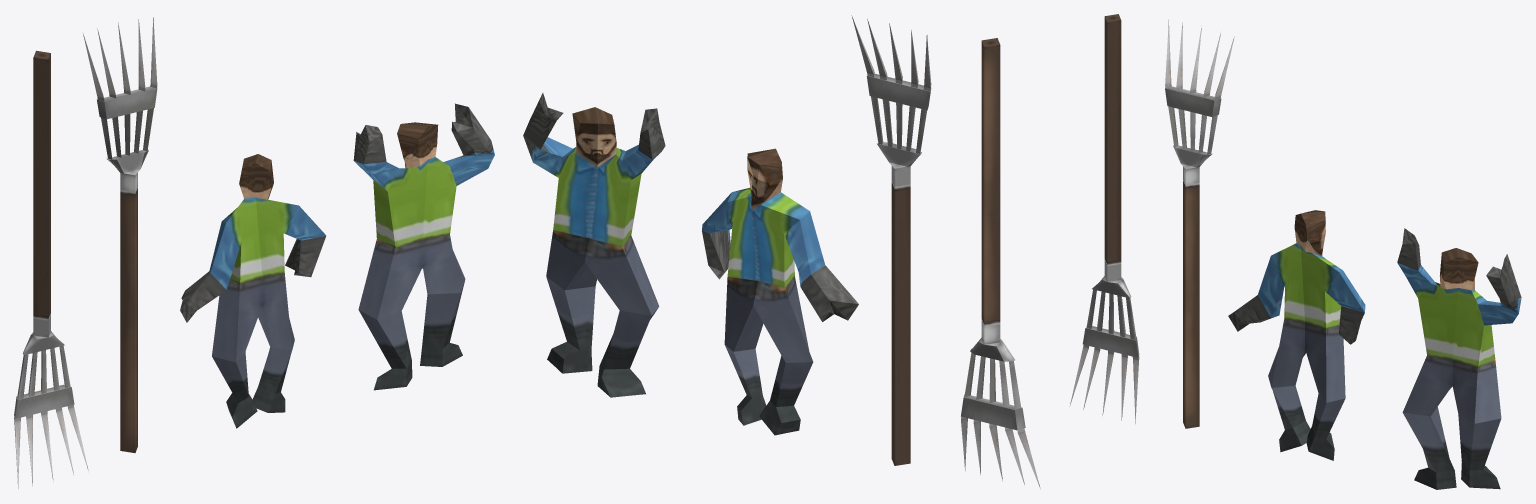
Rendered from GarbageEnemyJanitorRake_4items.fbx.
3 renders of one model, left to right at view 1: azimuth 30°, elevation 25°; view 2: azimuth 150°, elevation 25°; view 3: azimuth 330°, elevation 25°, orthographic. The views are drawn at different scales.
Parts seen in each view (by area): view 1: JanitorRake1, JanitorRake2, Rake1, Rake2; view 2: JanitorRake1, JanitorRake2, Rake1, Rake2; view 3: JanitorRake1, JanitorRake2, Rake2, Rake1.
Part boxes in pixels (x1=…): JanitorRake1: x1=353, y1=103, x2=494, y2=390; JanitorRake2: x1=180, y1=154, x2=326, y2=428; Rake1: x1=83, y1=17, x2=157, y2=452; Rake2: x1=14, y1=50, x2=88, y2=488; JanitorRake1: x1=523, y1=93, x2=665, y2=397; JanitorRake2: x1=702, y1=148, x2=858, y2=435; Rake1: x1=851, y1=15, x2=931, y2=465; Rake2: x1=961, y1=38, x2=1040, y2=488; JanitorRake1: x1=1397, y1=228, x2=1521, y2=489; JanitorRake2: x1=1228, y1=210, x2=1365, y2=460; Rake2: x1=1069, y1=14, x2=1139, y2=423; Rake1: x1=1165, y1=19, x2=1234, y2=428.
Size of what is drawn, in the model's own units: 27.03 by 22.96 by 2.5.
